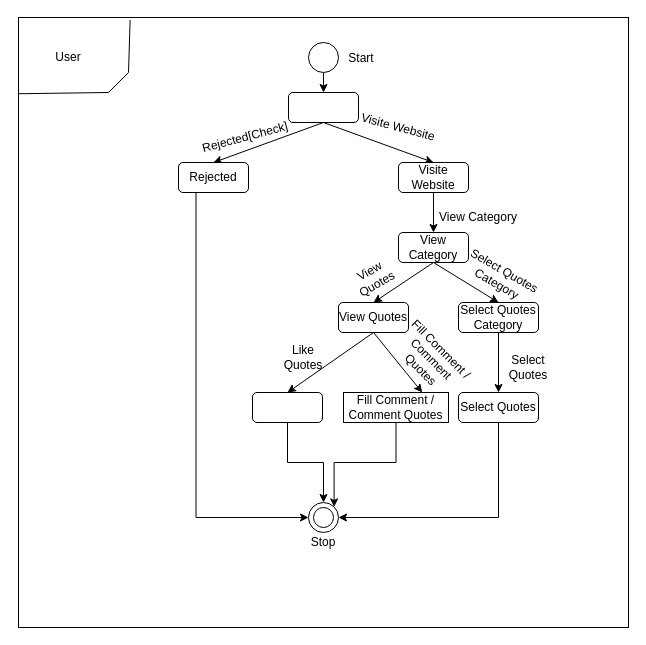
Some shapes in this 646 by 645 pixel diagram are drawn without their labels. Each missing label, with the centre of its shape:
Login: the point at 323,107
View Profile: the point at 287,407
